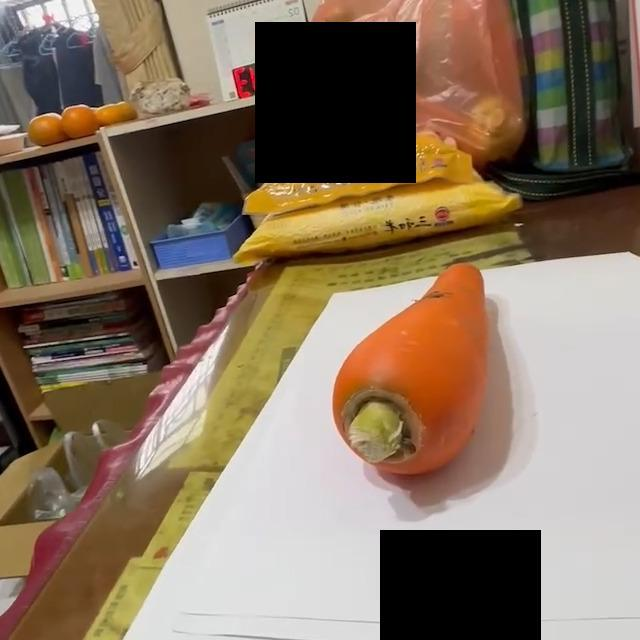carrot: (328, 263, 490, 477)
